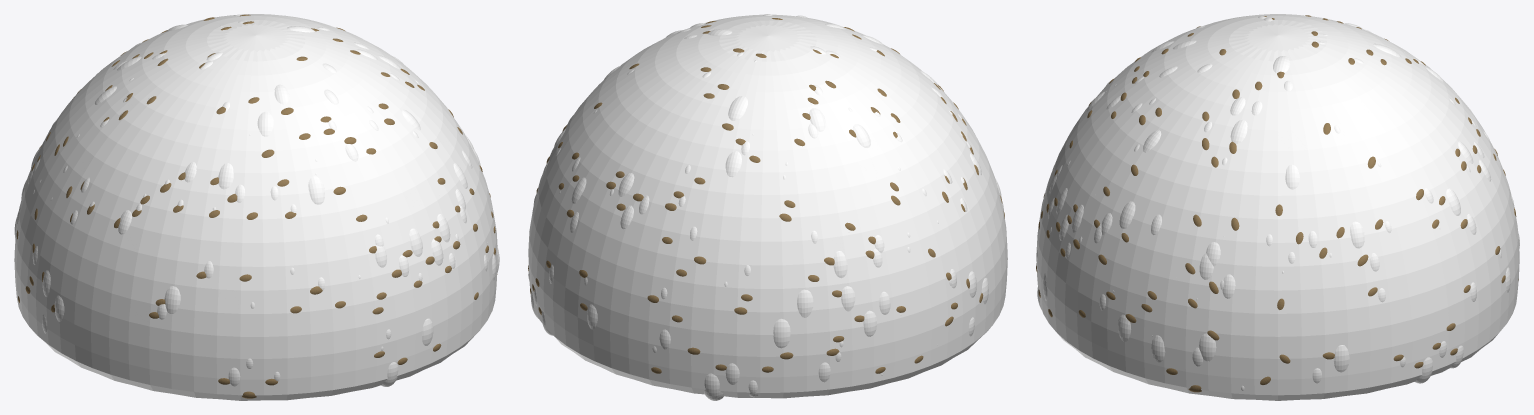
File: garlic-rice.fbx
3 renders of one model, left to right at view 1: azimuth 30°, elevation 25°; view 2: azimuth 150°, elevation 25°; view 3: azimuth 270°, elevation 25°, orthographic.
Visible parts, largest first — view 1: Sphere; view 2: Sphere, Sphere|Cube|Dupli|229; view 3: Sphere.
Boxes of the visible parts, x1,y1,x2,y2 form: Sphere: [14, 14, 497, 400]; Sphere: [528, 14, 1007, 398]; Sphere|Cube|Dupli|229: [773, 318, 790, 348]; Sphere: [1036, 14, 1519, 400].
Bounding box in the file's own units: 198 × 123 × 198.
